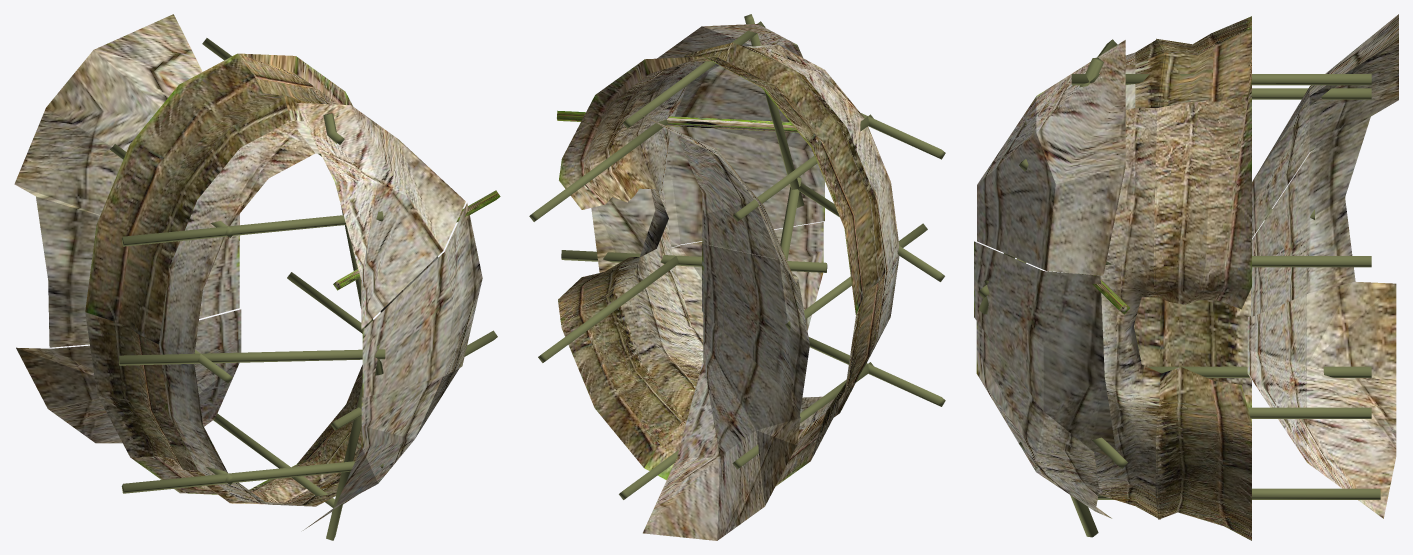
Rendered from hut_000040.obj.
3 views of the same model, side by side, from view 1: azimuth 30°, elevation 25°; view 2: azimuth 150°, elevation 25°; view 3: azimuth 270°, elevation 25° (orthographic). The views are drawn at different scales.
Parts seen in each view (by area): view 1: Sphere.003, Sphere.002, Sphere.004, Sphere.006, Sphere.001, Sphere.005, Sphere.007, Sphere.008, Sphere, Cylinder.008_Cylinder.010, Cylinder.012_Cylinder.013, Cylinder.013_Cylinder.014 (+6 smaller); view 2: Sphere.003, Sphere.008, Sphere.001, Sphere.002, Sphere.005, Sphere.007, Sphere.006, Sphere.004, Sphere, Cylinder.010_Cylinder.011, Cylinder.003, Cylinder.011_Cylinder.012 (+11 smaller); view 3: Sphere.001, Sphere.006, Sphere.008, Sphere.003, Sphere.002, Sphere.005, Sphere.007, Sphere.004, Sphere, Cylinder.001, Cylinder, Cylinder.003 (+4 smaller).
Boxes of the visible parts, left/top/right/bottom form: Sphere.003: left=138, top=95, right=438, bottom=506; Sphere.002: left=85, top=53, right=380, bottom=494; Sphere.004: left=14, top=14, right=239, bottom=240; Sphere.006: left=295, top=102, right=465, bottom=329; Sphere.001: left=117, top=78, right=361, bottom=504; Sphere.005: left=362, top=203, right=482, bottom=397; Sphere.007: left=36, top=196, right=239, bottom=347; Sphere.008: left=16, top=309, right=241, bottom=443; Sphere: left=303, top=368, right=459, bottom=530; Cylinder.008_Cylinder.010: left=119, top=349, right=385, bottom=365; Cylinder.012_Cylinder.013: left=121, top=461, right=383, bottom=493; Cylinder.013_Cylinder.014: left=121, top=211, right=383, bottom=246; Sphere.003: left=615, top=43, right=899, bottom=440; Sphere.008: left=643, top=313, right=800, bottom=540; Sphere.001: left=585, top=42, right=878, bottom=454; Sphere.002: left=558, top=56, right=863, bottom=485; Sphere.005: left=591, top=126, right=824, bottom=272; Sphere.007: left=702, top=243, right=809, bottom=418; Sphere.006: left=657, top=24, right=812, bottom=151; Sphere.004: left=639, top=114, right=798, bottom=282; Sphere: left=671, top=222, right=823, bottom=339; Cylinder.010_Cylinder.011: left=557, top=110, right=798, bottom=132; Cylinder.003: left=538, top=256, right=678, bottom=362; Cylinder.011_Cylinder.012: left=561, top=250, right=827, bottom=272; Sphere.001: left=1153, top=33, right=1223, bottom=525; Sphere.006: left=977, top=40, right=1125, bottom=275; Sphere.008: left=1247, top=281, right=1396, bottom=518; Sphere.003: left=1063, top=39, right=1166, bottom=519; Sphere.002: left=1200, top=16, right=1251, bottom=540; Sphere.005: left=974, top=241, right=1115, bottom=455; Sphere.007: left=1251, top=116, right=1370, bottom=316; Sphere.004: left=1252, top=14, right=1398, bottom=237; Sphere: left=976, top=321, right=1111, bottom=518; Cylinder.001: left=1071, top=74, right=1371, bottom=85; Cylinder: left=1097, top=488, right=1380, bottom=499; Cylinder.003: left=1248, top=407, right=1371, bottom=418.
Size of the model in its own units: 4.43 by 4.88 by 3.77.
